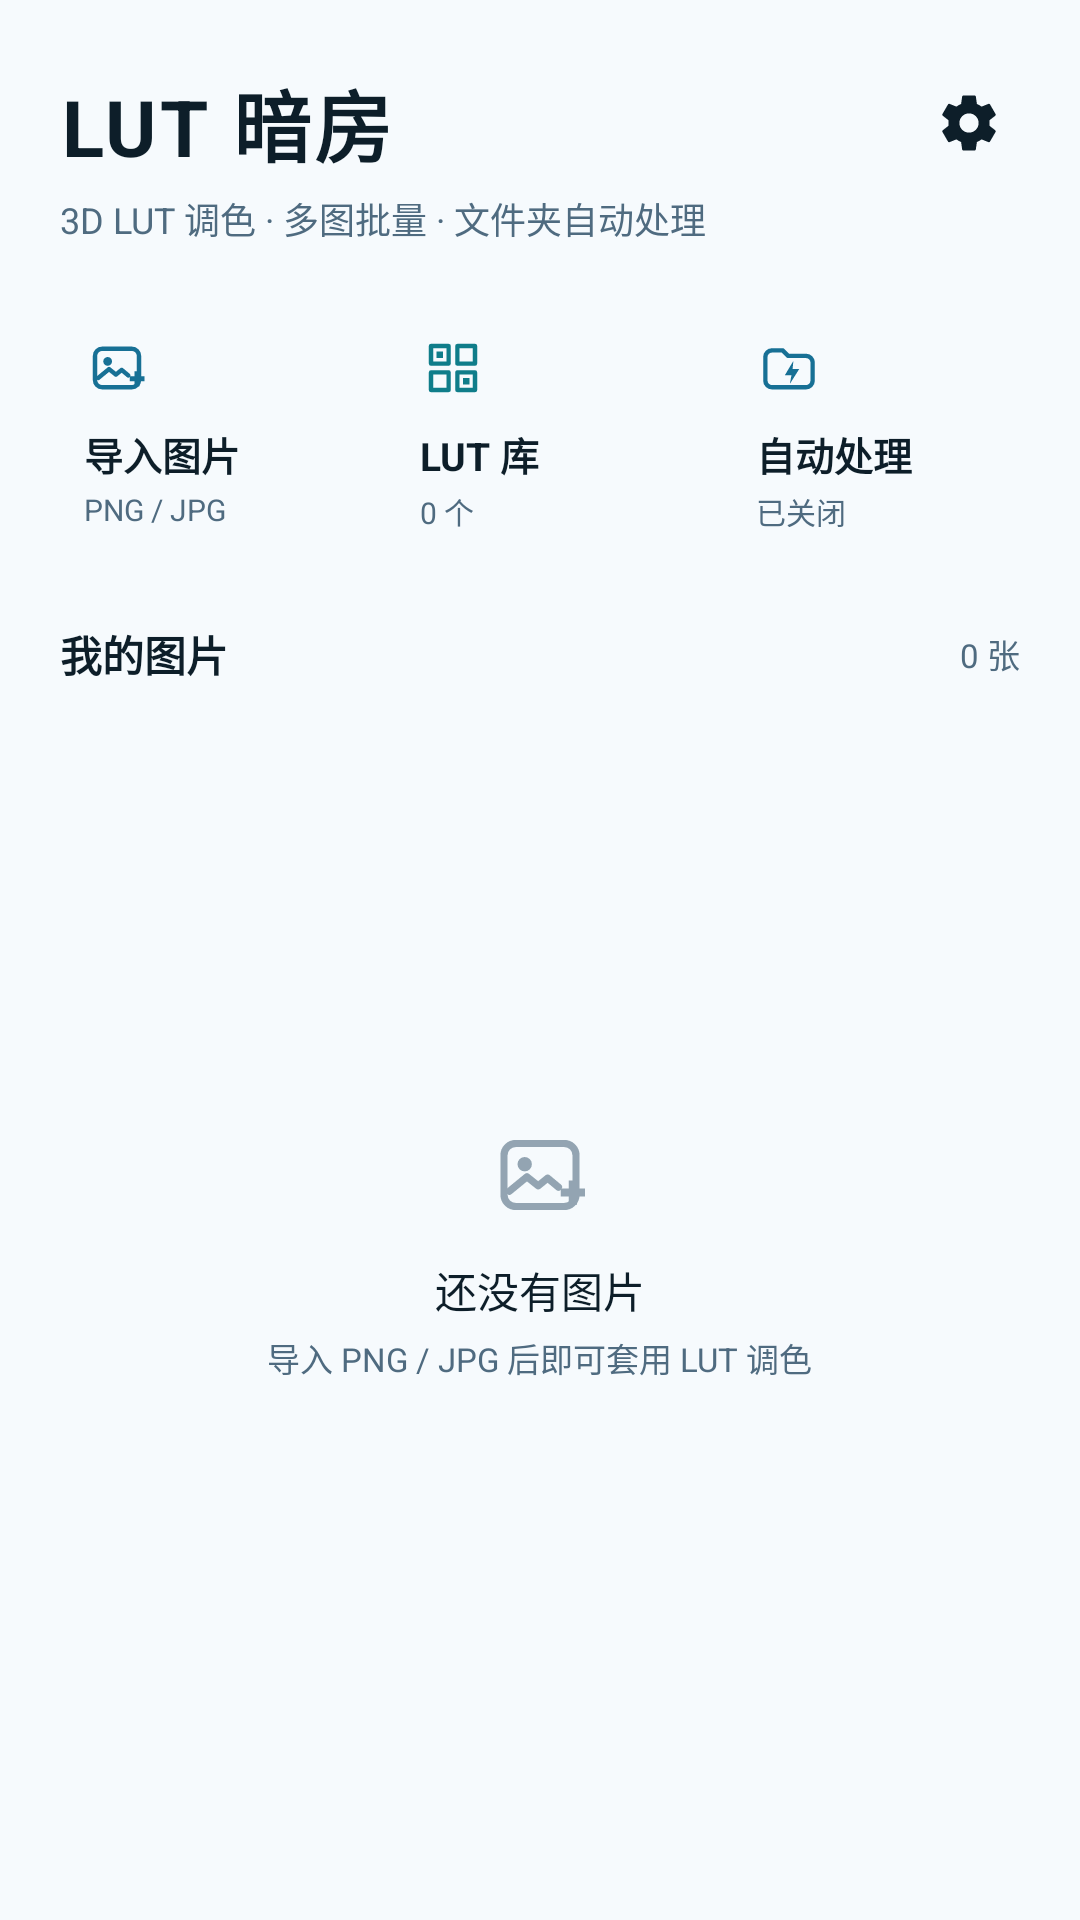

Named icons in this screenshot (1080px×1920px) and their centers, [x,y]:
auto: [789,369]
import: [118,368], [542,1175]
首选项: [969,123]
